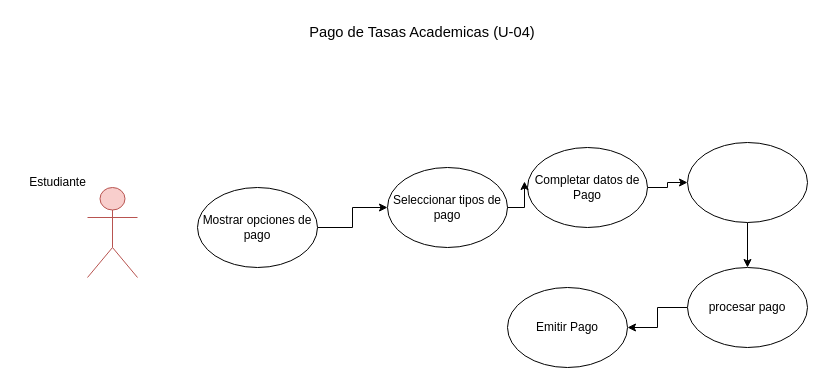
The diagram is 825 pixels wide and 385 high, and some of its shapes have lost their labels. Each missing label, with the centre of its shape:
Actor: the point at 112,232
Confirmar Transaccion: the point at 747,182
